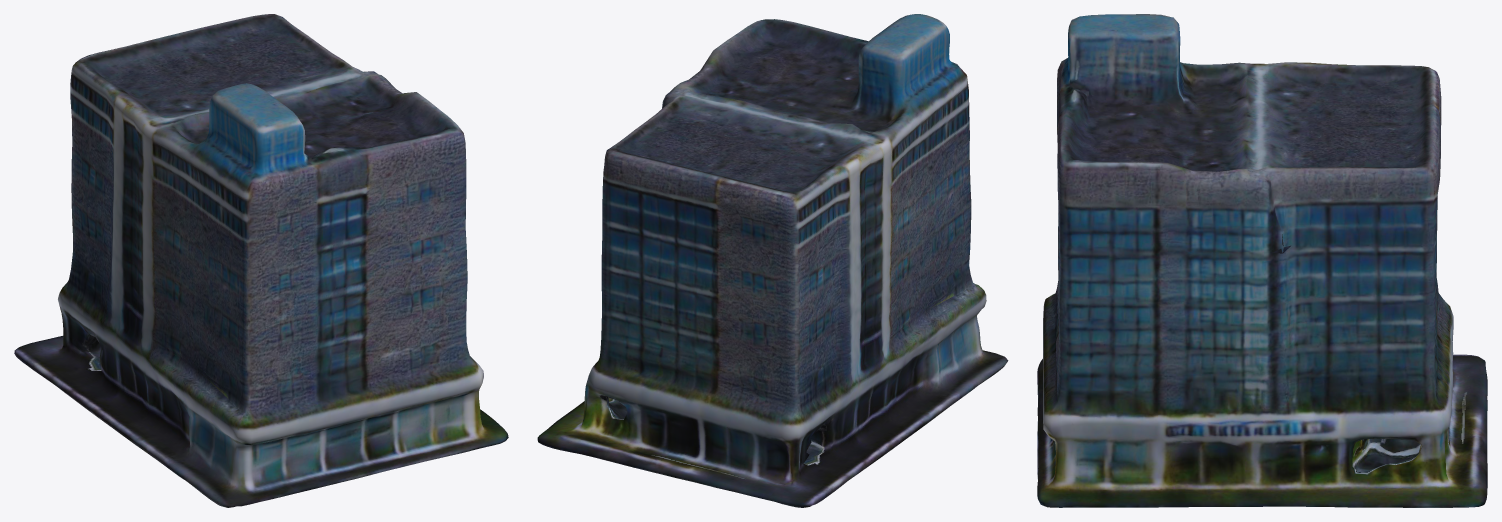
File: b8fb30054edb_A_downtown_office_b.fbx
3 renders of one model, left to right at view 1: azimuth 30°, elevation 25°; view 2: azimuth 150°, elevation 25°; view 3: azimuth 270°, elevation 25°, orthographic. The views are drawn at different scales.
Parts seen in each view (by area): view 1: mesh; view 2: mesh; view 3: mesh.
Boxes of the visible parts, x1,y1,x2,y2 form: mesh: [14, 14, 508, 507]; mesh: [537, 14, 1008, 507]; mesh: [1037, 14, 1487, 507].
Bounding box in the file's own units: 77.58 × 91.45 × 99.29.
